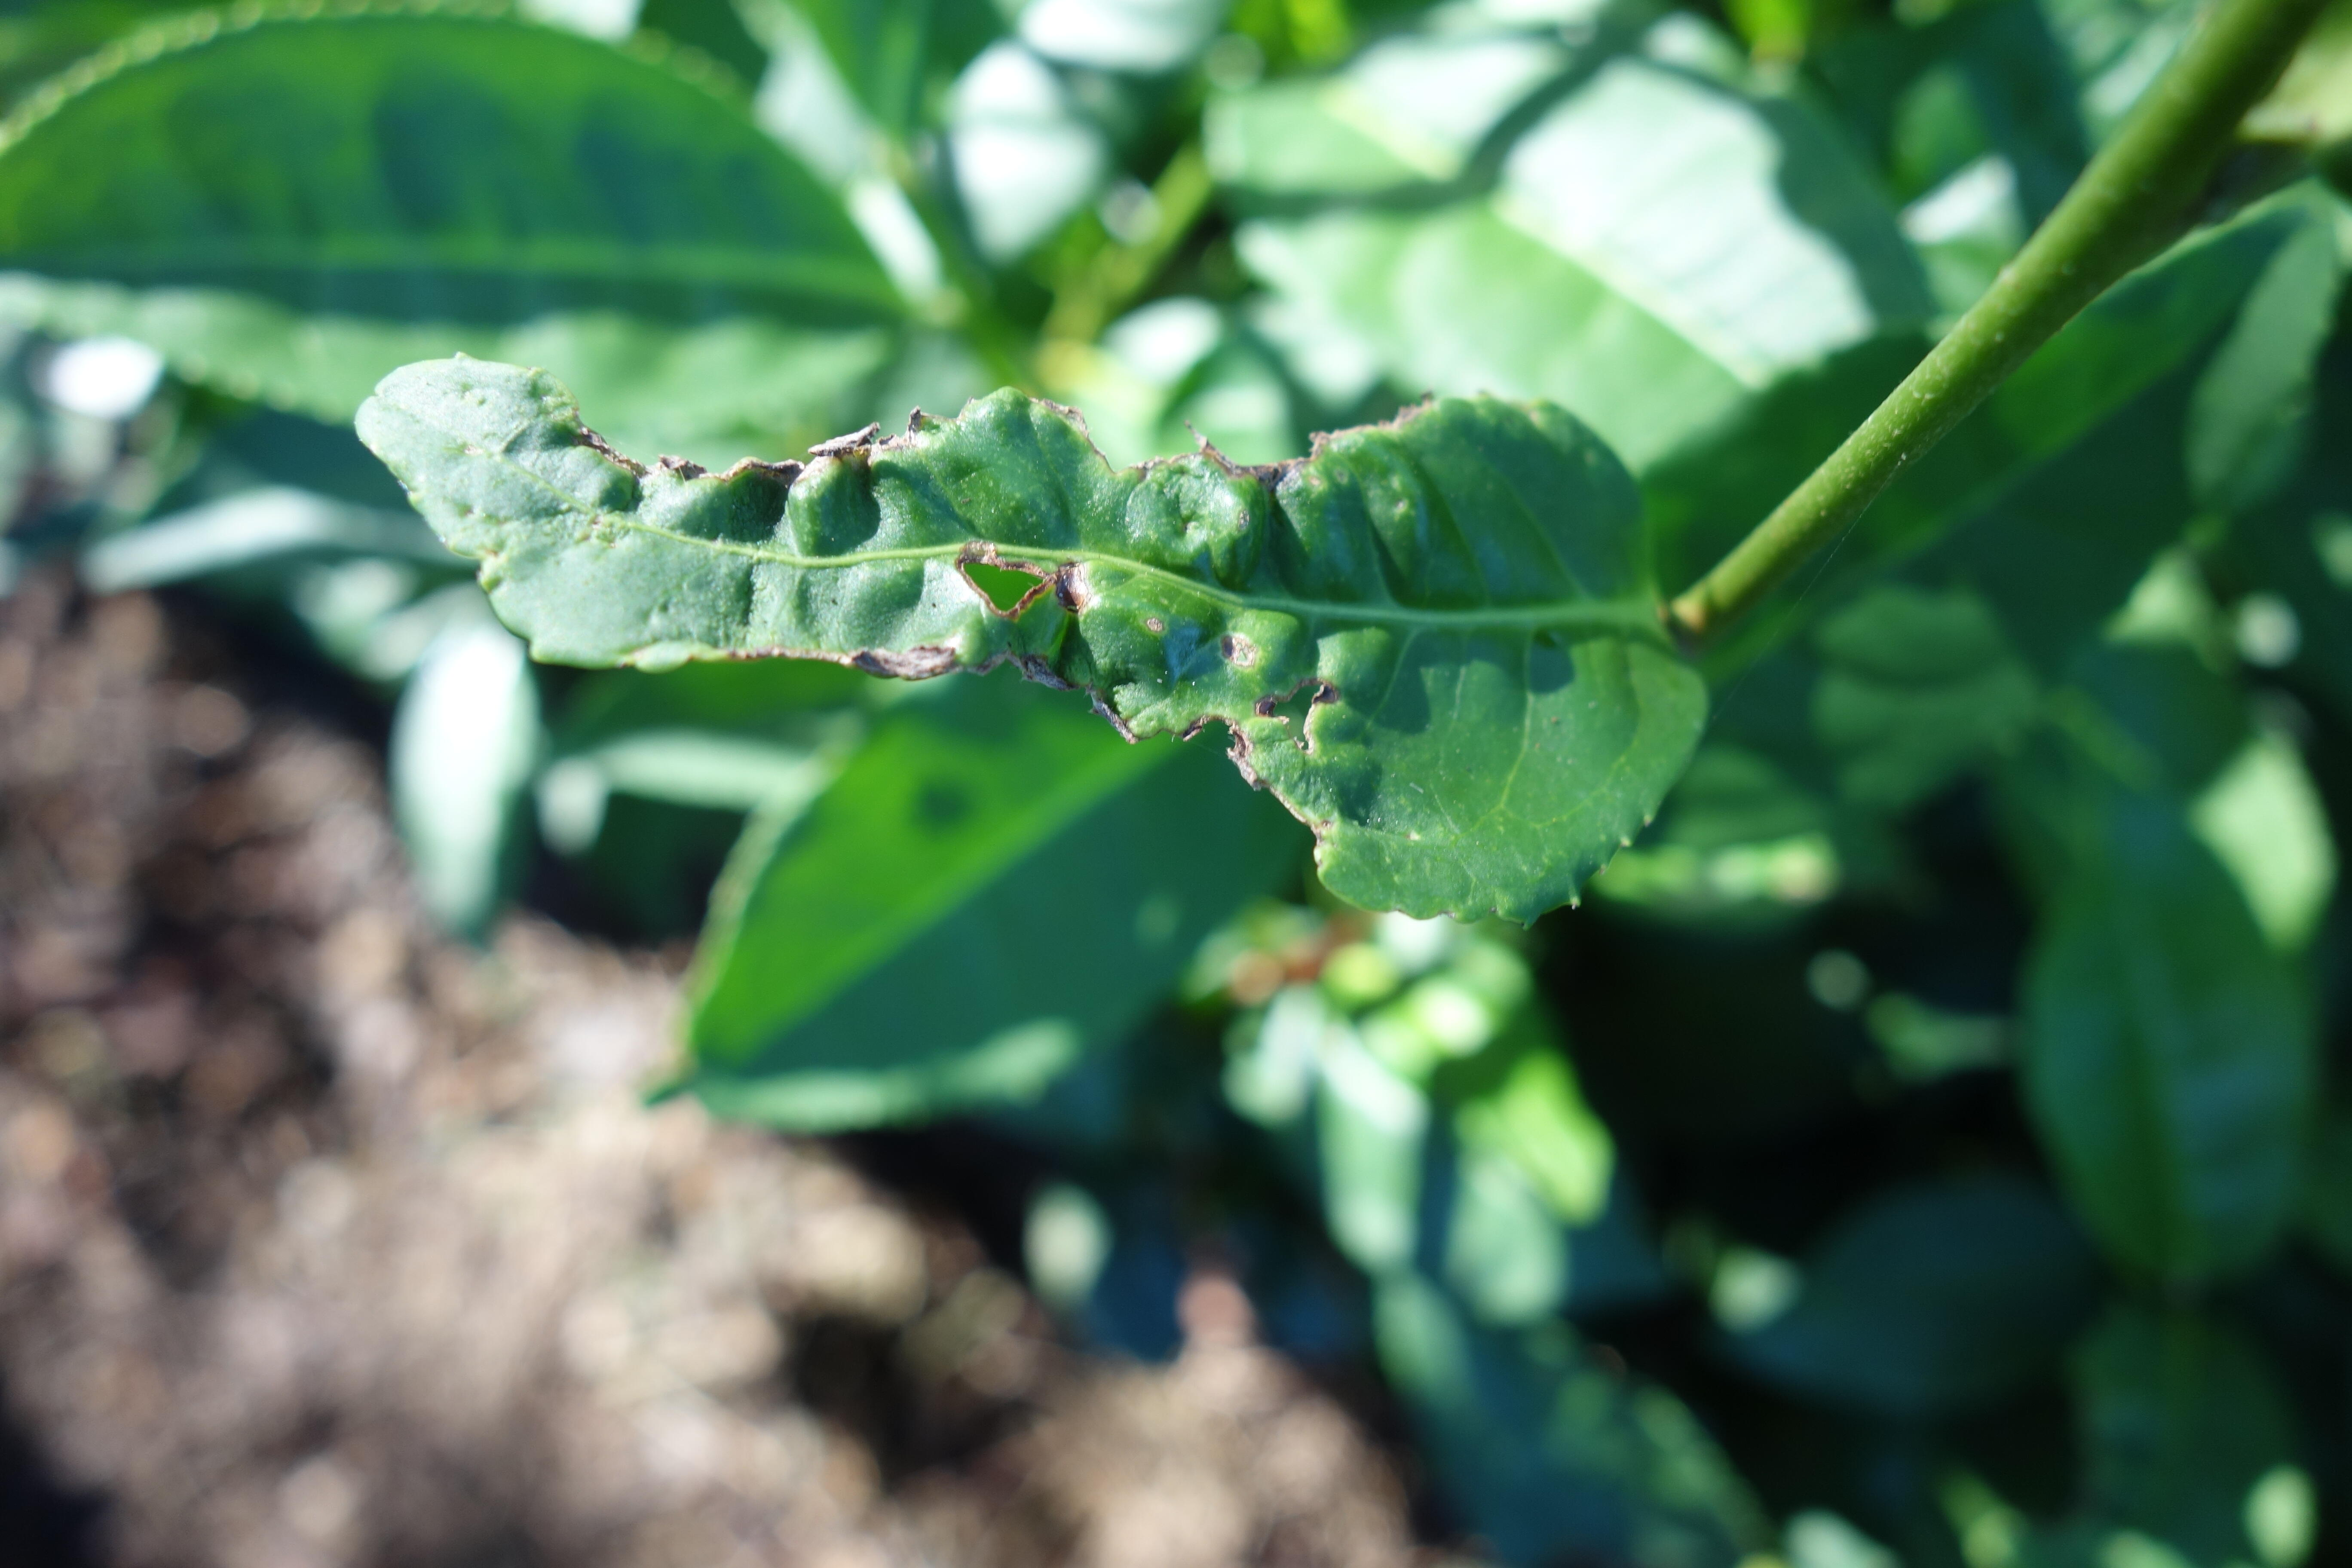chihuo_high: (352, 350, 1710, 926)
